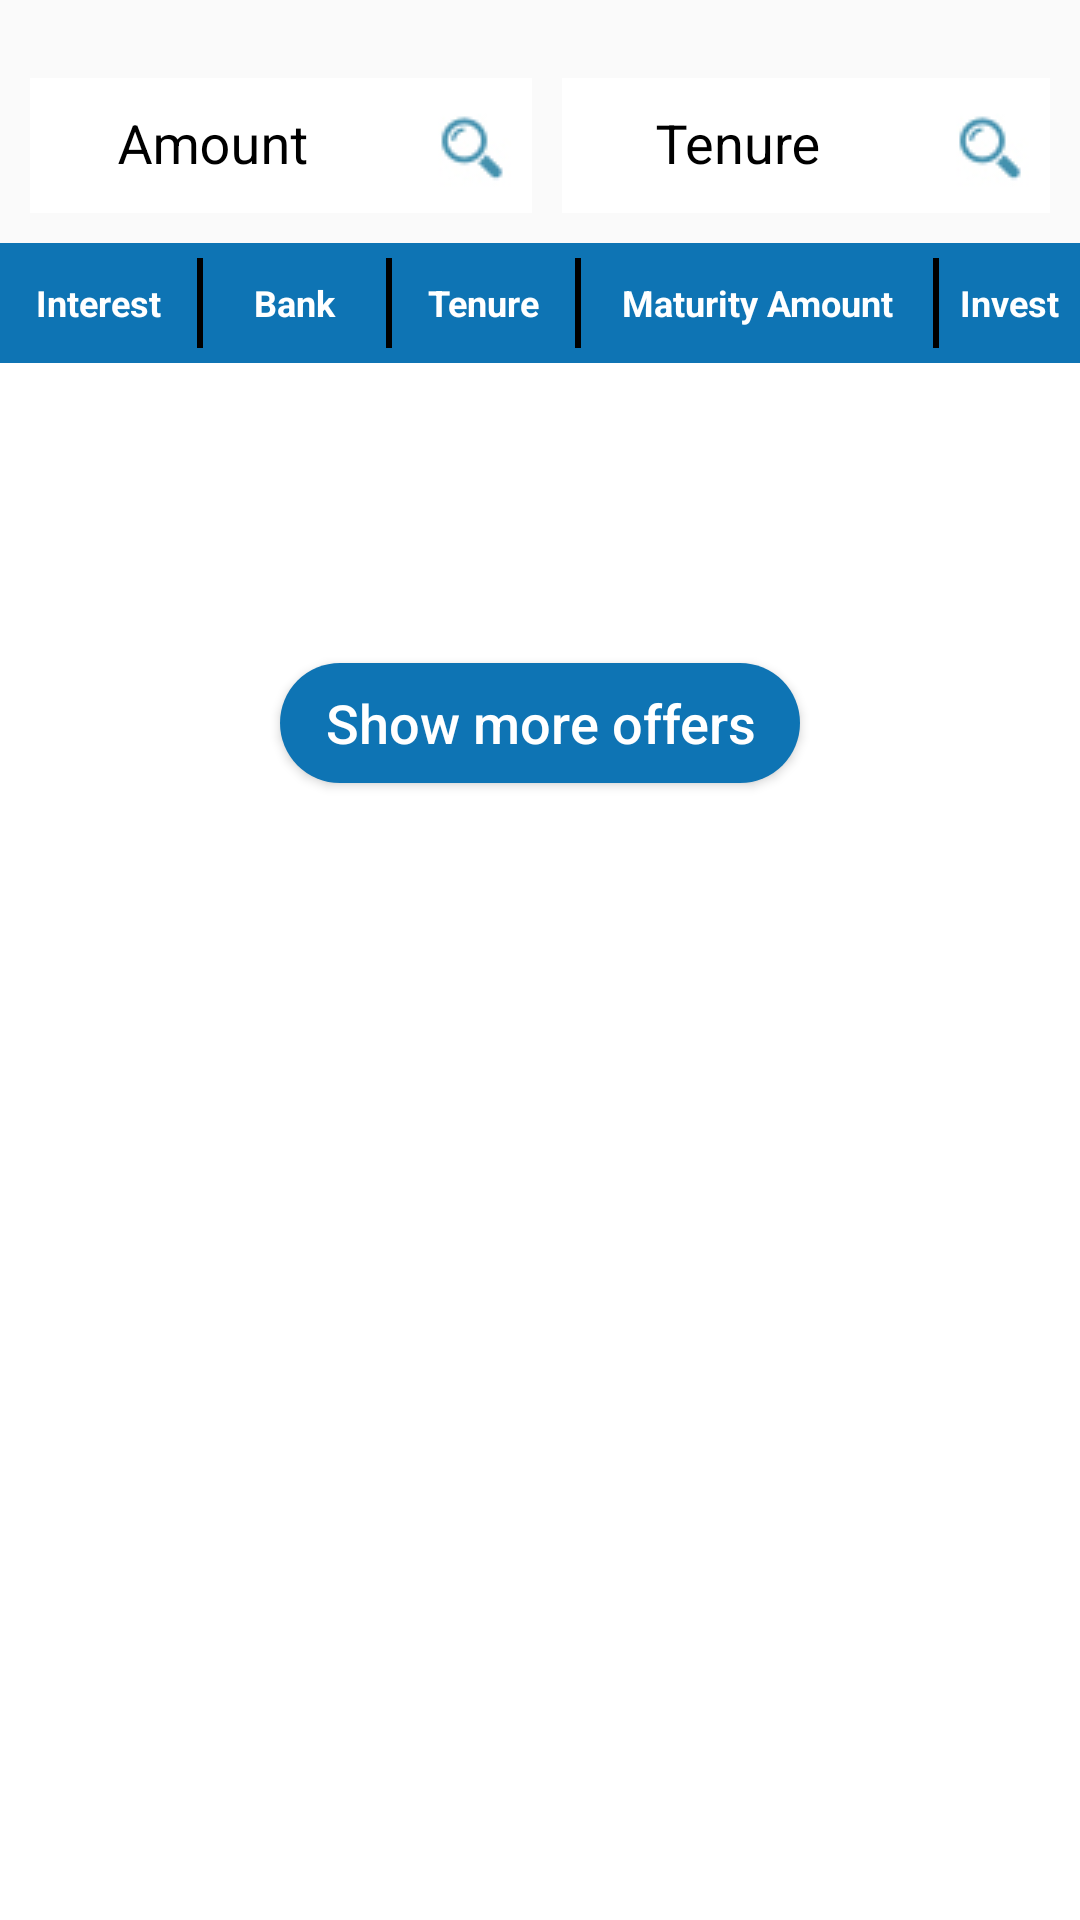

Named icons in this screenshot (1080w x 1920h) and their centers, point (x, y):
search: point (472, 147), point (990, 147)
